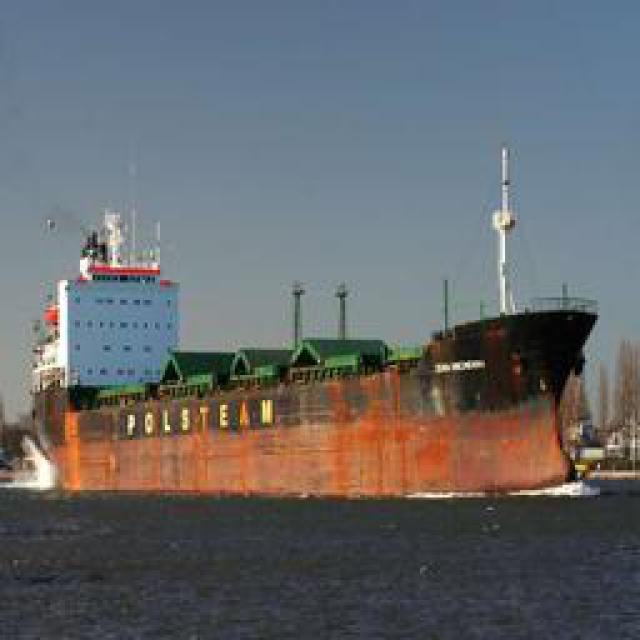Ship: (20, 261, 608, 499)
